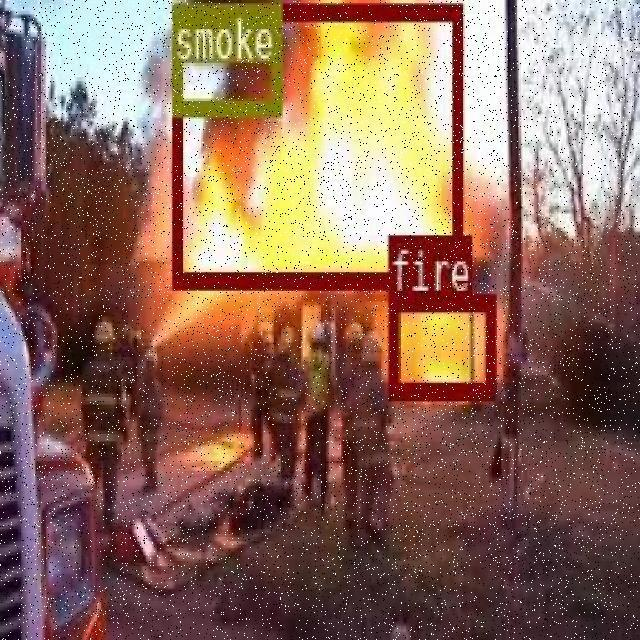Smoke: (170, 0, 279, 113)
